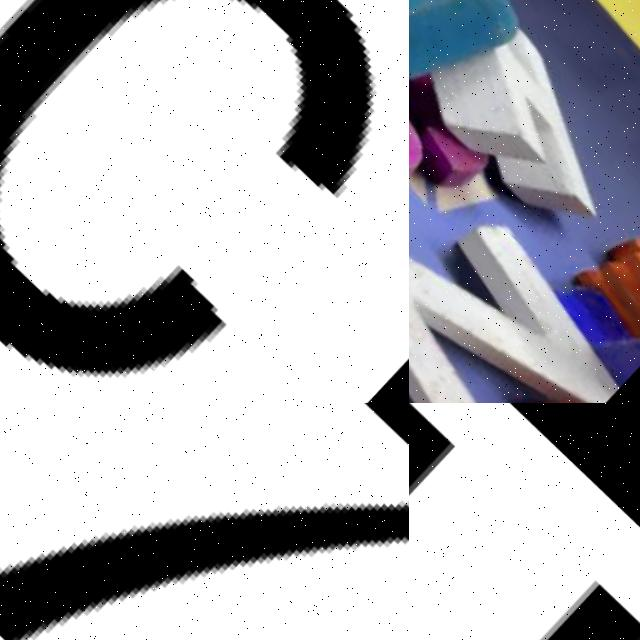7: (0, 403, 409, 640)
C: (0, 234, 227, 371)
D: (409, 0, 564, 137)
U: (409, 403, 640, 640)
Z: (409, 130, 640, 403)
